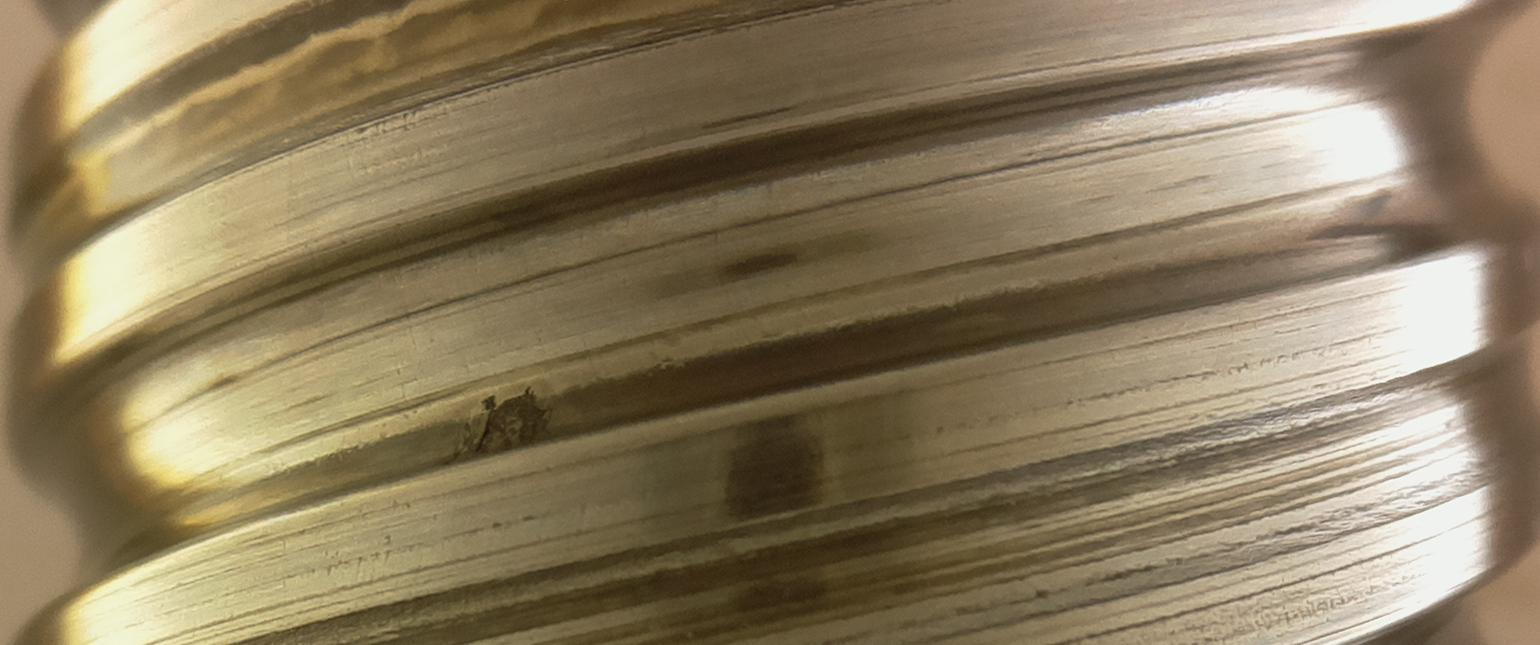pitting: (463, 387, 551, 455)
